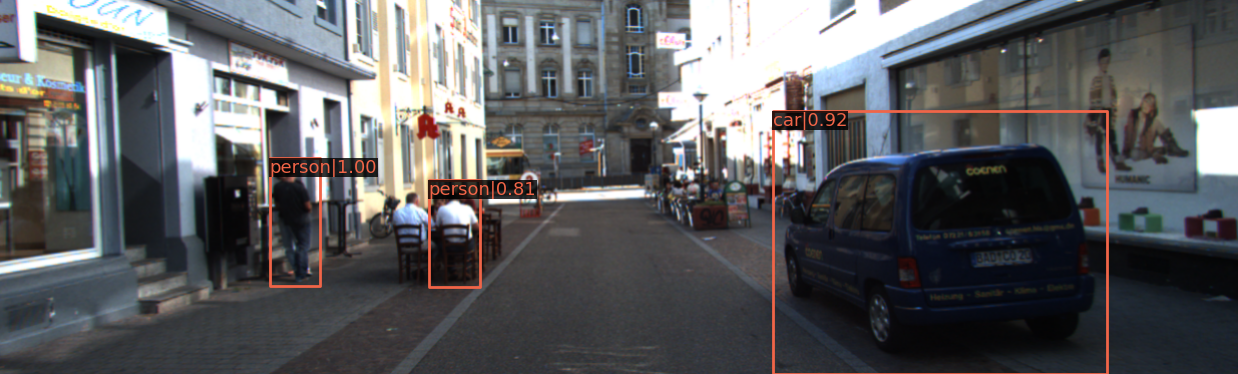person: (272, 161, 319, 285), (265, 160, 315, 276)
